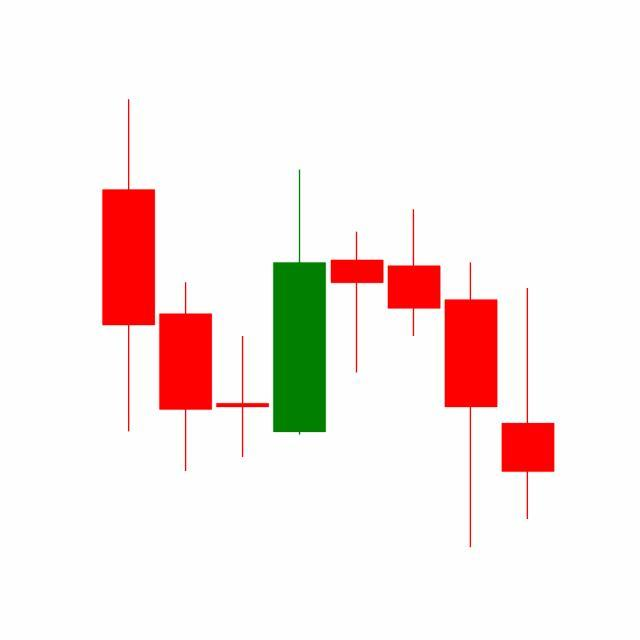Hikkake Pattern: (214, 165, 501, 548)
